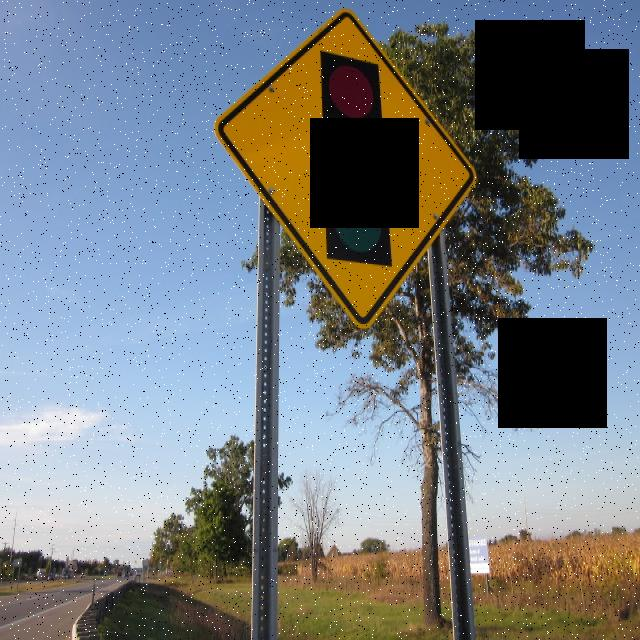warning: (214, 10, 475, 328)
